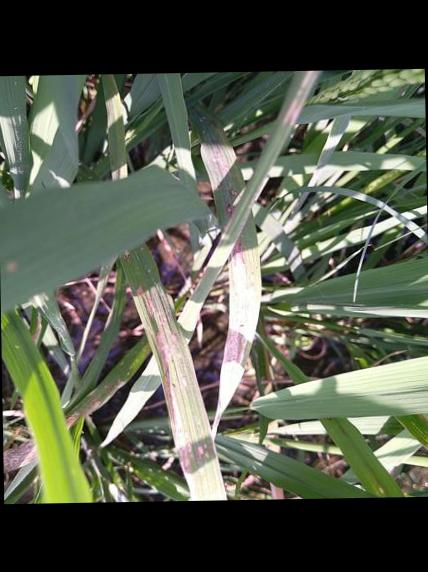Leaf Blight: (398, 415, 428, 453)
Leaf Streak: (128, 282, 225, 501), (210, 213, 259, 435), (64, 332, 147, 429), (198, 116, 242, 226), (276, 70, 320, 125), (104, 93, 126, 180), (305, 133, 340, 185), (3, 439, 35, 472), (116, 247, 136, 263)
